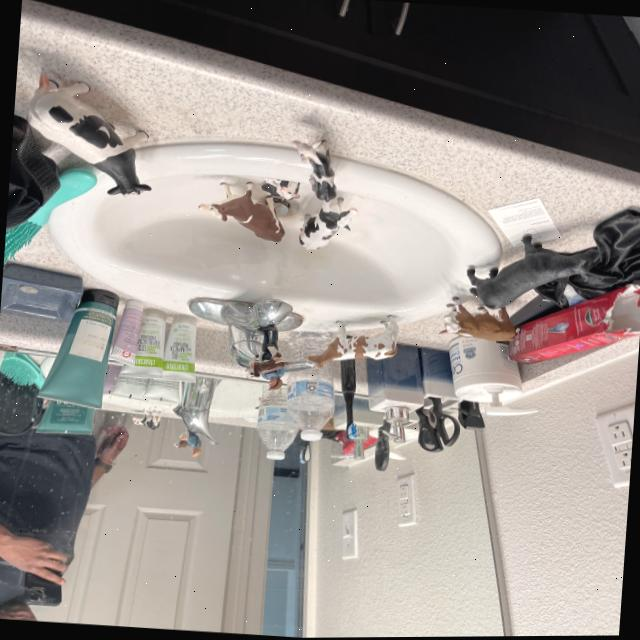cow: (10, 57, 177, 213), (459, 218, 605, 315), (197, 166, 297, 260), (303, 314, 402, 369), (288, 190, 363, 257), (291, 129, 349, 207), (439, 303, 517, 343), (259, 176, 302, 204), (246, 352, 287, 379), (132, 412, 160, 430)
person: (261, 363, 293, 393)
